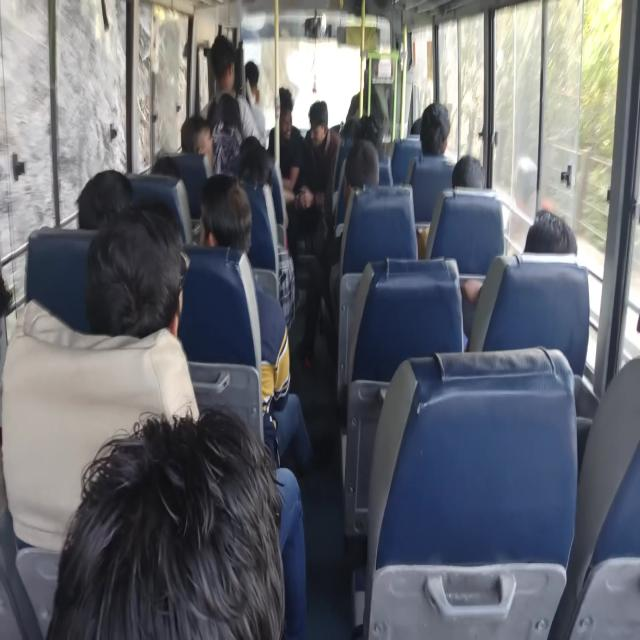person: (46, 405, 288, 639), (197, 173, 312, 473), (84, 201, 200, 423), (460, 206, 578, 348), (293, 100, 340, 366), (201, 35, 261, 176), (417, 154, 484, 257), (298, 100, 340, 226), (266, 86, 305, 200), (77, 169, 132, 229), (523, 207, 577, 254), (346, 67, 386, 127), (244, 60, 266, 146), (419, 101, 451, 157), (452, 154, 484, 188)
